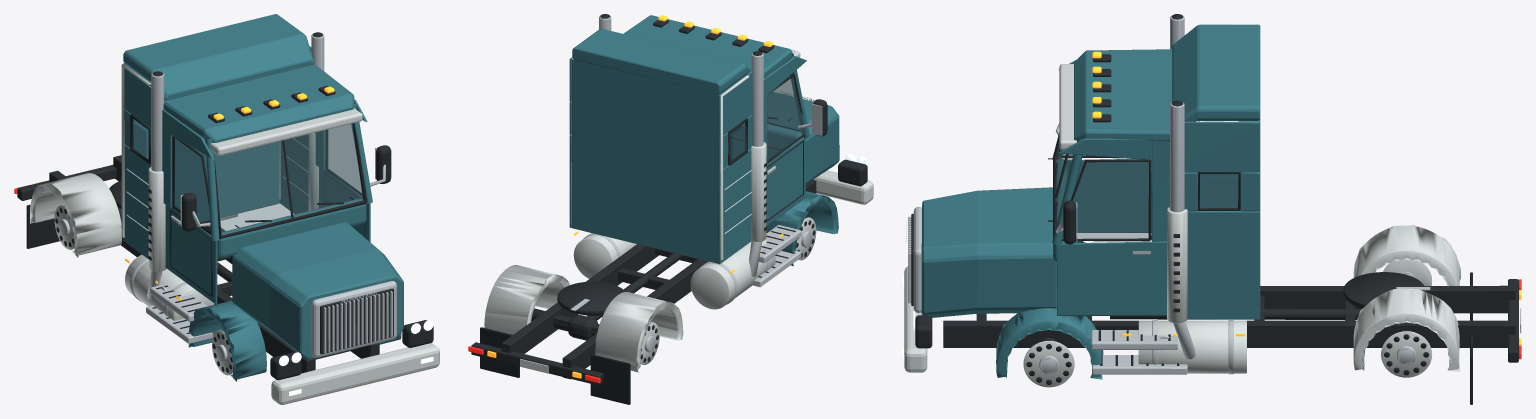
The model's file is HighwayKing_LOD1.fbx.
3 views of the same model, side by side, from view 1: azimuth 30°, elevation 25°; view 2: azimuth 150°, elevation 25°; view 3: azimuth 270°, elevation 25° (orthographic). The views are drawn at different scales.
Parts seen in each view (by area): view 1: CabExterior__TT_Paint_Primary.001, Chassis__TT_Paint_Primary.001, Chassis__TT_MetalTrim.001, CabExterior__TT_Glass.001, Chassis__TT_Chassis.001, Chassis__TT_Chrome.001, CabExterior__TT_MetalTrim.001, CabExterior__TT_Rubber.001, CabExterior__TT_Chrome.001, CabExterior__TT_Chassis.001, Chassis__TT_Rubber.001, LampHeadlamp__TT_Headlamp.001 (+2 smaller); view 2: CabExterior__TT_Paint_Primary.001, Chassis__TT_MetalTrim.001, Chassis__TT_Chassis.001, Chassis__TT_Paint_Primary.001, Chassis__TT_Rubber.001, CabExterior__TT_Glass.001, Chassis__TT_Chrome.001, CabExterior__TT_Chrome.001, CabExterior__TT_Rubber.001, CabExterior__TT_MetalTrim.001, CabExterior__TT_Chassis.001, Wheel_FR__TT_MetalTrim.001 (+1 smaller); view 3: CabExterior__TT_Paint_Primary.001, Chassis__TT_Paint_Primary.001, Chassis__TT_Chassis.001, Chassis__TT_MetalTrim.001, CabExterior__TT_Glass.001, Chassis__TT_Chrome.001, CabExterior__TT_Chrome.001, CabExterior__TT_Rubber.001, Wheel_FL__TT_MetalTrim.001, Wheel_RL__TT_MetalTrim.001, CabExterior__TT_Chassis.001, CabExterior__TT_MetalTrim.001 (+1 smaller).
Part boxes in pixels (left/top/right/bottom): CabExterior__TT_Paint_Primary.001: left=123, top=14, right=372, bottom=304; Chassis__TT_Paint_Primary.001: left=188, top=222, right=403, bottom=381; Chassis__TT_MetalTrim.001: left=30, top=133, right=439, bottom=404; CabExterior__TT_Glass.001: left=132, top=122, right=362, bottom=235; Chassis__TT_Chassis.001: left=17, top=32, right=433, bottom=380; Chassis__TT_Chrome.001: left=121, top=34, right=396, bottom=357; CabExterior__TT_MetalTrim.001: left=121, top=64, right=362, bottom=237; CabExterior__TT_Rubber.001: left=130, top=114, right=367, bottom=333; CabExterior__TT_Chrome.001: left=146, top=164, right=385, bottom=343; CabExterior__TT_Chassis.001: left=181, top=85, right=391, bottom=231; Chassis__TT_Rubber.001: left=26, top=197, right=353, bottom=248; LampHeadlamp__TT_Headlamp.001: left=279, top=320, right=433, bottom=396; CabExterior__TT_Paint_Primary.001: left=569, top=15, right=809, bottom=264; Chassis__TT_MetalTrim.001: left=484, top=142, right=873, bottom=373; Chassis__TT_Chassis.001: left=471, top=14, right=867, bottom=385; Chassis__TT_Paint_Primary.001: left=730, top=92, right=839, bottom=266; Chassis__TT_Rubber.001: left=480, top=119, right=791, bottom=404; CabExterior__TT_Glass.001: left=732, top=77, right=803, bottom=160; Chassis__TT_Chrome.001: left=570, top=15, right=814, bottom=310; CabExterior__TT_Chrome.001: left=752, top=123, right=811, bottom=287; CabExterior__TT_Rubber.001: left=728, top=73, right=804, bottom=277; CabExterior__TT_MetalTrim.001: left=571, top=49, right=800, bottom=259; CabExterior__TT_Chassis.001: left=653, top=19, right=827, bottom=136; Wheel_FR__TT_MetalTrim.001: left=796, top=217, right=816, bottom=260; CabExterior__TT_Paint_Primary.001: left=1052, top=24, right=1260, bottom=319; Chassis__TT_Paint_Primary.001: left=921, top=187, right=1103, bottom=379; Chassis__TT_Chassis.001: left=911, top=14, right=1518, bottom=362; Chassis__TT_MetalTrim.001: left=904, top=207, right=1521, bottom=373; CabExterior__TT_Glass.001: left=1056, top=147, right=1234, bottom=238; Chassis__TT_Chrome.001: left=906, top=16, right=1430, bottom=374; CabExterior__TT_Chrome.001: left=1055, top=123, right=1187, bottom=374; CabExterior__TT_Rubber.001: left=1053, top=121, right=1240, bottom=365; Wheel_FL__TT_MetalTrim.001: left=1023, top=341, right=1074, bottom=387; Wheel_RL__TT_MetalTrim.001: left=1381, top=331, right=1432, bottom=377; CabExterior__TT_Chassis.001: left=1055, top=54, right=1111, bottom=244; CabExterior__TT_MetalTrim.001: left=1059, top=64, right=1258, bottom=211.
Size of the model in its own units: 312 by 391 by 724.
